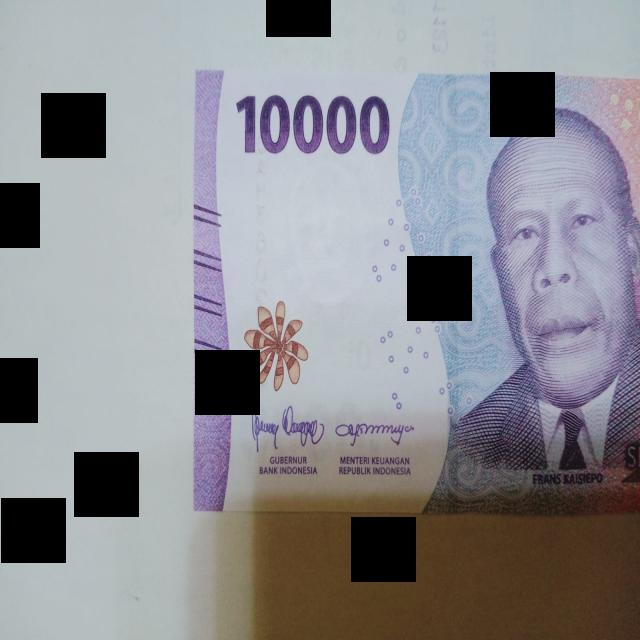sepuluhribu rupiah: (194, 72, 640, 513)
